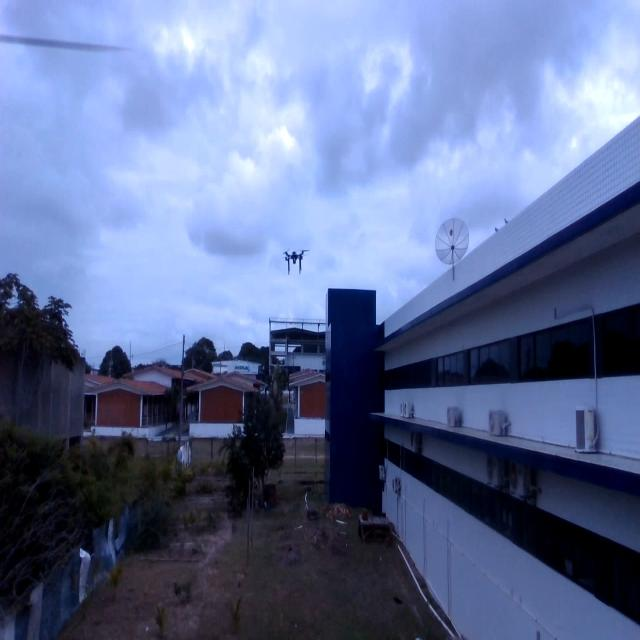-uav-: (274, 238, 318, 289)
